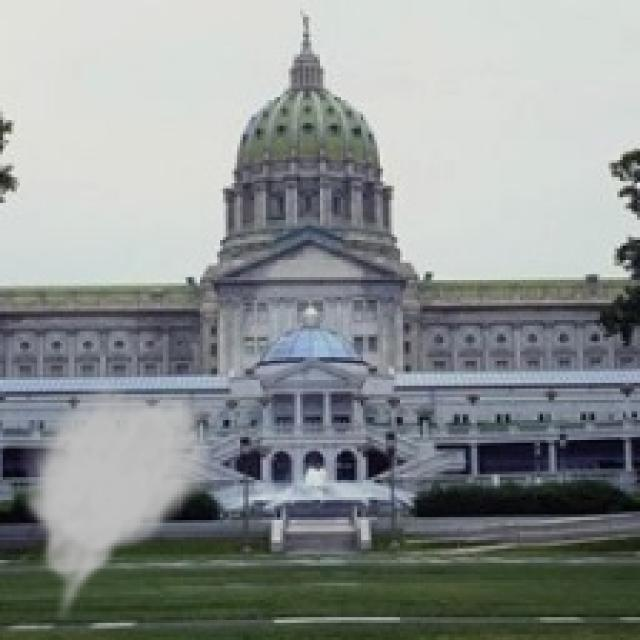smoke: (17, 380, 220, 626)
